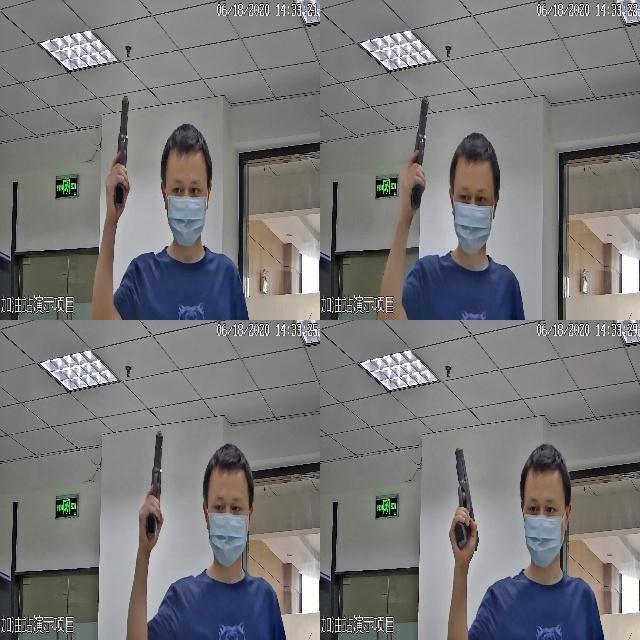gun-knife-thesis - v11 Yolov5 augmented: (445, 447, 477, 547), (408, 93, 431, 212), (110, 95, 130, 209), (143, 429, 163, 539)
